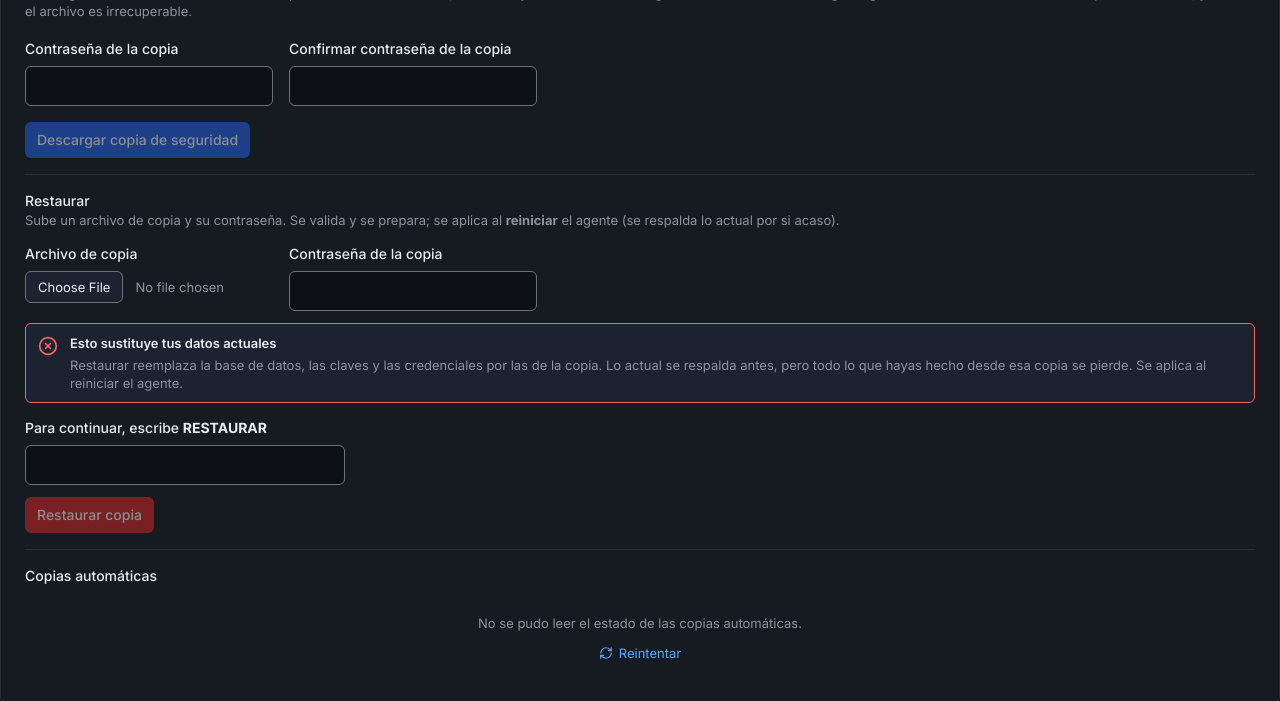
Test: SystemBackupCard: las copias automáticas que no se pudieron leer › la sección se queda, lo dice y reintenta
(page scrolled)
Expected: the text "No se pudo leer el estado de las copias automáticas." is shown, top-left (478, 614), bottom-right (802, 632)
Click the button "Reintentar": x=640, y=653 top-left (591, 640), bottom-right (689, 666)
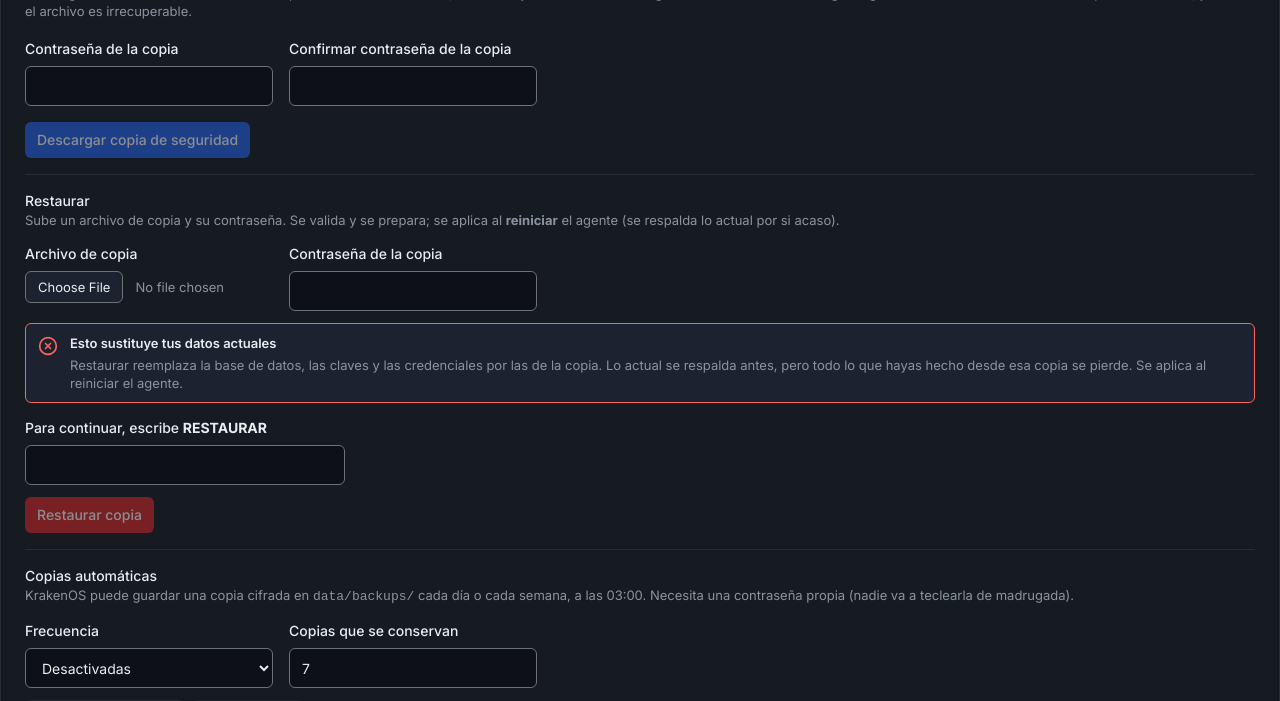
Now the text "No se pudo leer el estado de las copias automáticas." is gone
Now the dropdown labelled "Frecuencia" is shown, box top-left (25, 648), bottom-right (273, 688)
